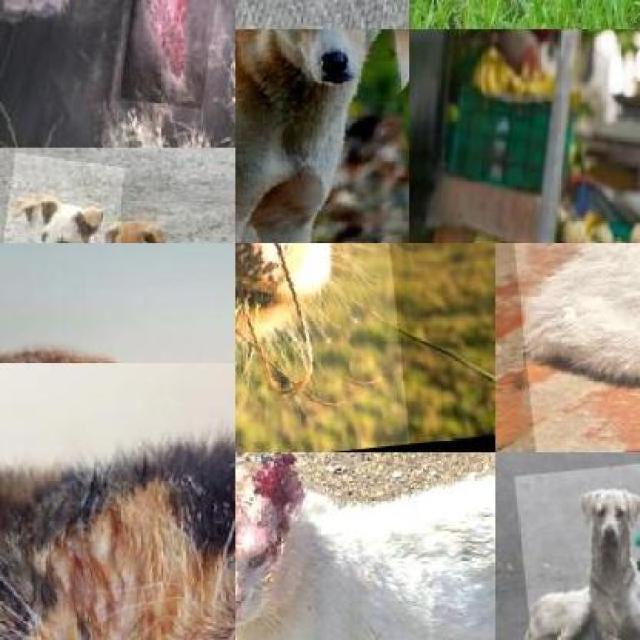buffalo: (0, 0, 235, 147)
cat: (0, 363, 235, 640), (235, 452, 496, 640), (500, 243, 640, 452), (0, 243, 235, 363)
cow: (236, 243, 410, 452)
dog: (236, 29, 410, 243), (514, 461, 640, 640), (0, 150, 178, 243), (68, 166, 235, 243)
injured: (235, 464, 311, 628), (119, 0, 228, 108)
